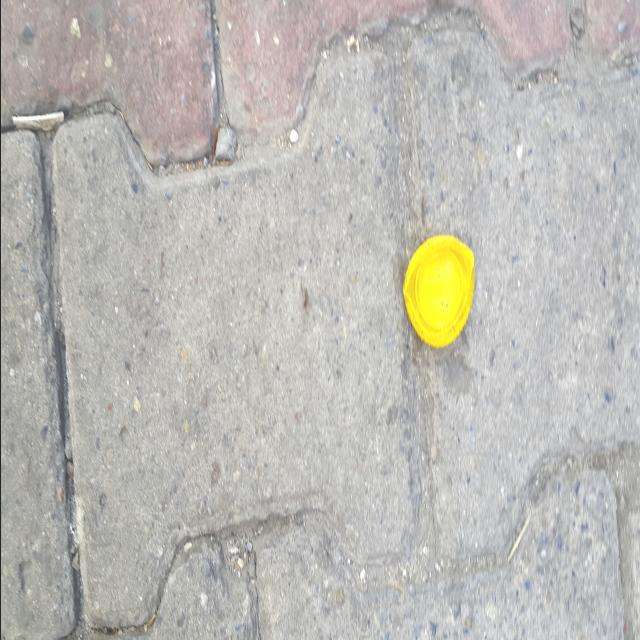Plastic bottle cap: (402, 236, 474, 348)
Unlabeled litter: (12, 112, 63, 131)
